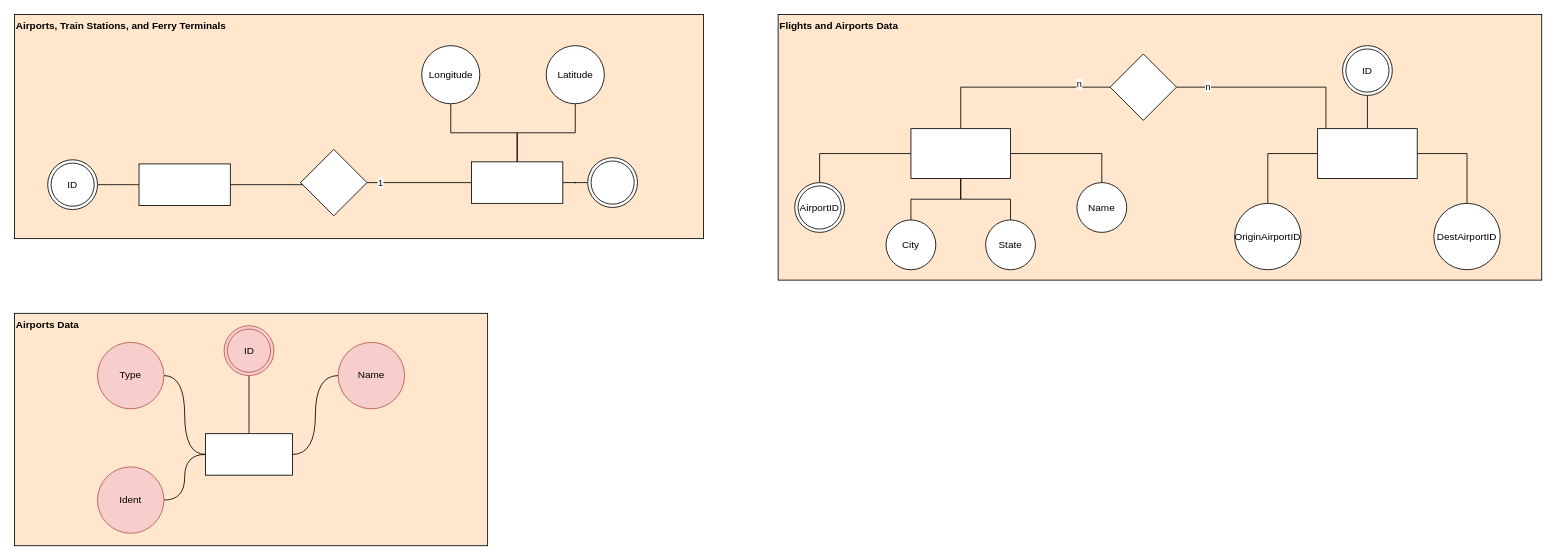
This 1556x560 diagram has some shape labels left out. The centre of each missing label's shape, as x and y in pixels:
"3 Char Code" belongs at [612,182].
"Airport" belongs at [249,454].
"Airports" belongs at [960,153].
"Flights" belongs at [1367,153].
"ha tenido" belongs at [1143,86].
"located" belongs at [333,182].
"Terminals" belongs at [184,184].
"Ubication" belongs at [517,182].
